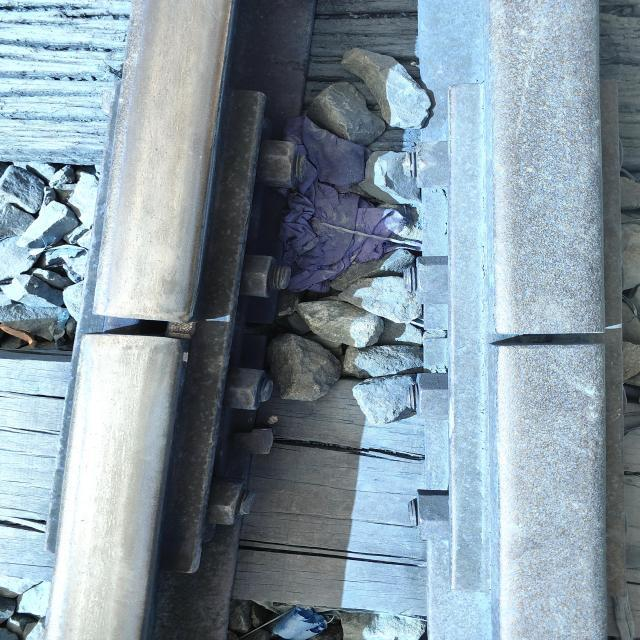Good Joint: (29, 71, 311, 589), (386, 87, 640, 605)
